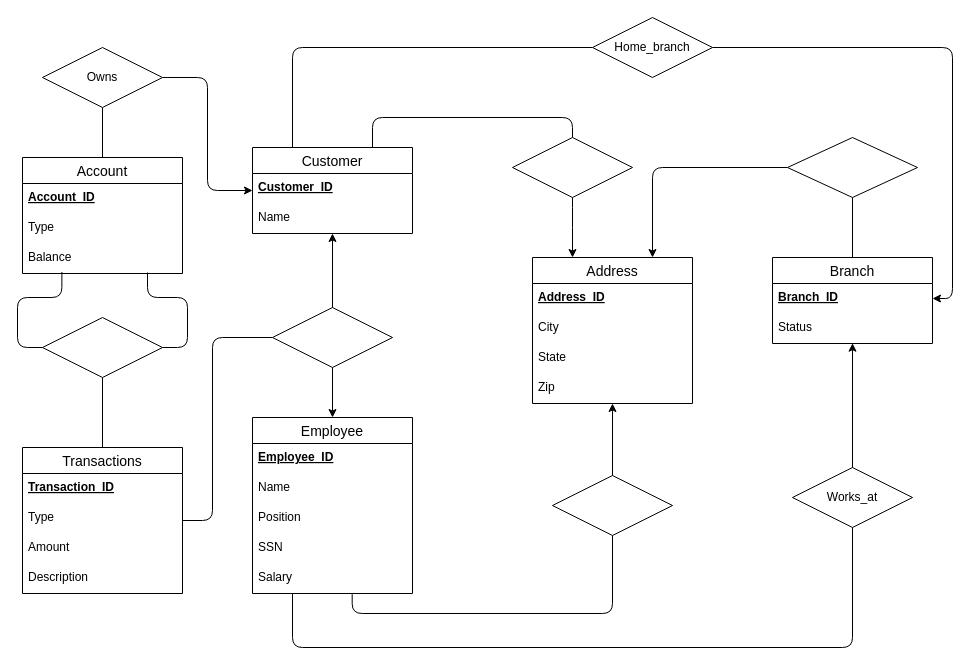
The diagram is 978 pixels wide and 666 high, and some of its shapes have lost their labels. Each missing label, with the centre of its shape:
Authorized: the point at 332,337
Branch_located_at: the point at 852,167
Customer_lives_at: the point at 572,167
Employee_lives_at: the point at 612,505
To/From: the point at 102,347
